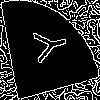Y: (25, 25, 68, 67)
